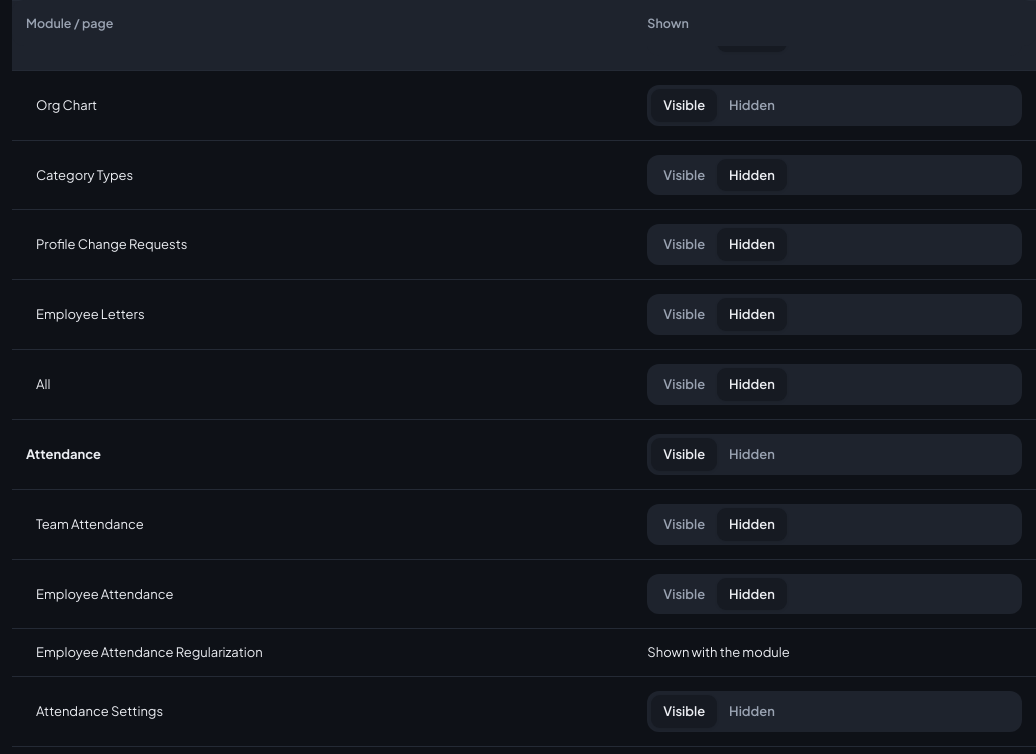
Test: the Security page › stores nothing for a page switched back to what the code already does
(page scrolled)
Click the 5th button "Visible".
click(684, 384)  # box 651,368 -> 717,401
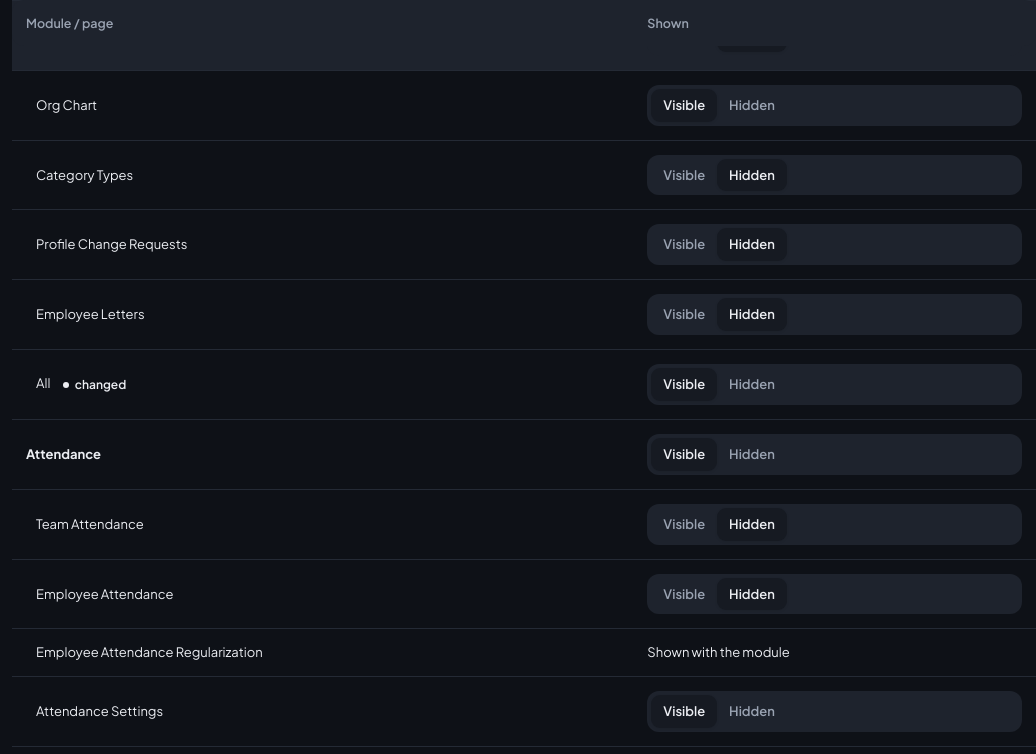
Click the button "Hidden" in the row of "changed".
click(752, 384)  # box 717,368 -> 787,401
(page scrolled)
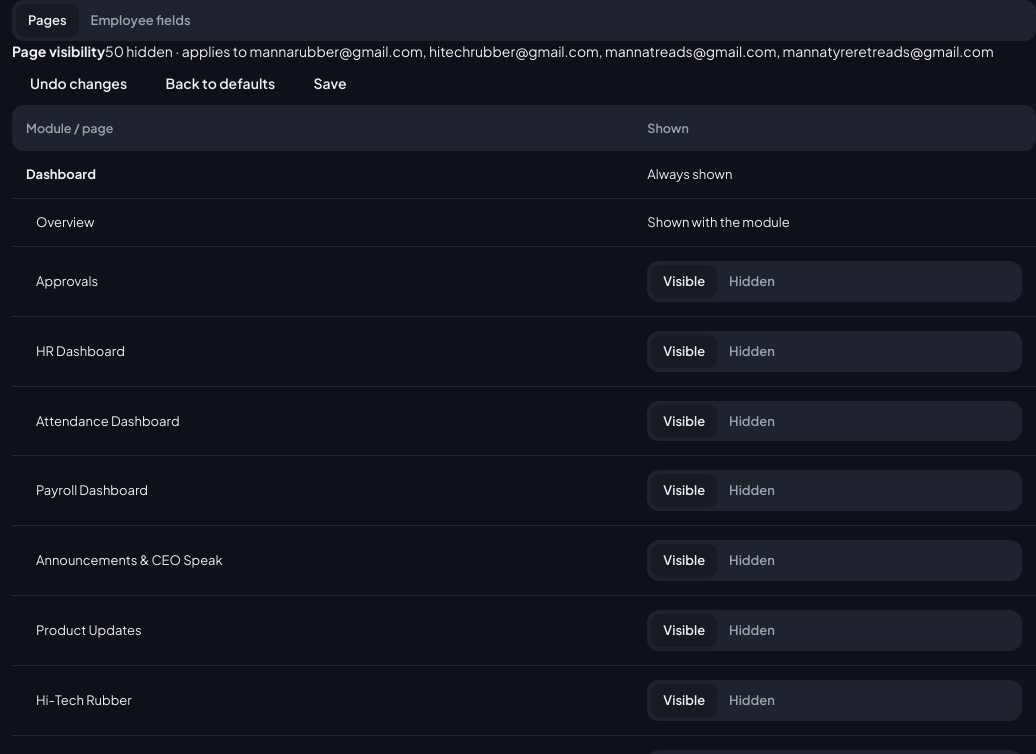
Now the button "Save" is disabled, box 296,61 -> 365,105
